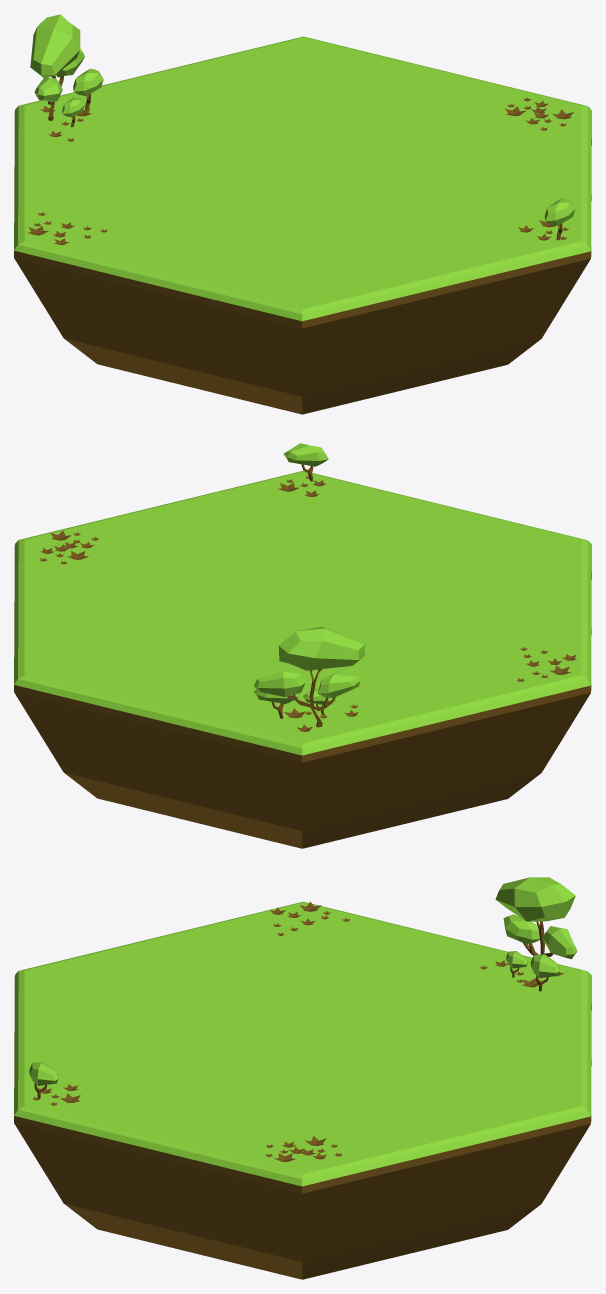
Rendered from Asset_Biome_Plain_02.fbx.
3 views of the same model, one above another, from view 1: azimuth 30°, elevation 25°; view 2: azimuth 150°, elevation 25°; view 3: azimuth 270°, elevation 25° (orthographic).
Parts seen in each view (by area): view 1: Asset_Tile_Plain, Asset_Tree_Plain_02, Asset_Tree_Plain_06, Asset_Tree_Plain_03; view 2: Asset_Tile_Plain, Asset_Tree_Plain_02, Asset_Tree_Plain_06; view 3: Asset_Tile_Plain, Asset_Tree_Plain_02, Asset_Tree_Plain_06, Asset_Tree_Plain_03.
Boxes of the visible parts, <box> form: Asset_Tile_Plain: <box>14,36,591,414</box>; Asset_Tree_Plain_02: <box>30,14,84,120</box>; Asset_Tree_Plain_06: <box>544,198,575,240</box>; Asset_Tree_Plain_03: <box>73,68,103,109</box>; Asset_Tile_Plain: <box>14,470,591,848</box>; Asset_Tree_Plain_02: <box>254,626,364,727</box>; Asset_Tree_Plain_06: <box>283,443,328,481</box>; Asset_Tile_Plain: <box>14,901,591,1279</box>; Asset_Tree_Plain_02: <box>495,877,577,959</box>; Asset_Tree_Plain_06: <box>29,1062,58,1098</box>; Asset_Tree_Plain_03: <box>530,954,559,991</box>.
Bounding box in the file's own units: 436 × 180 × 378.
